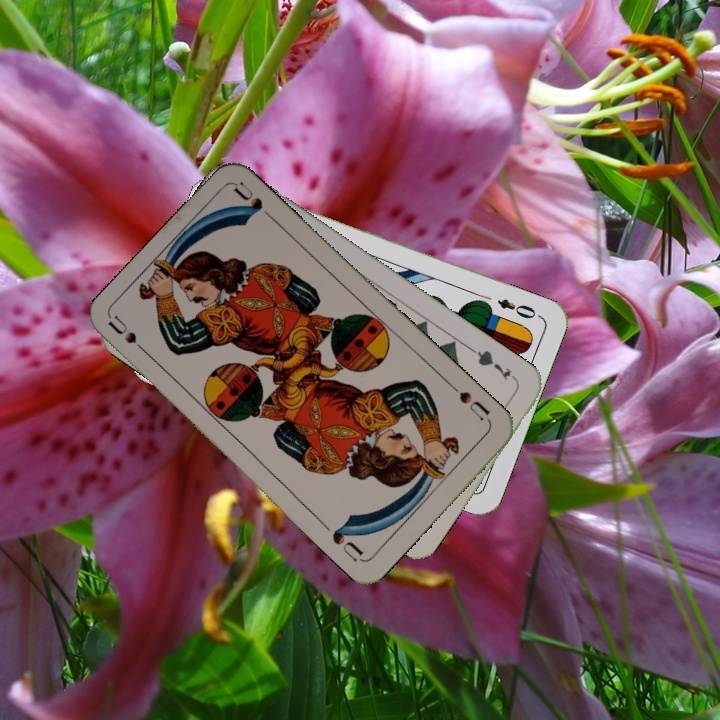EO: (493, 294, 544, 322)
G7: (468, 345, 520, 384)
SU: (105, 313, 155, 361), (446, 380, 493, 423)
